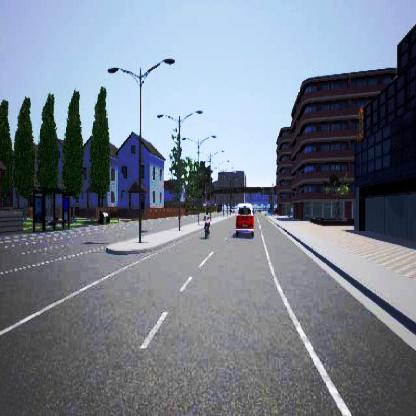bike: (202, 209, 212, 239)
vehicle: (235, 202, 255, 236)
